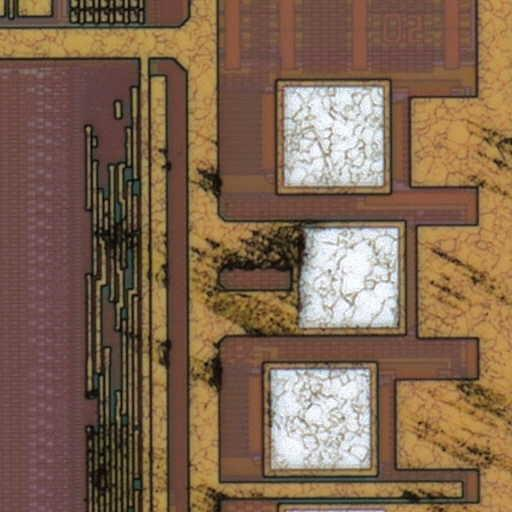SCRATCH: (81, 109, 512, 512)
